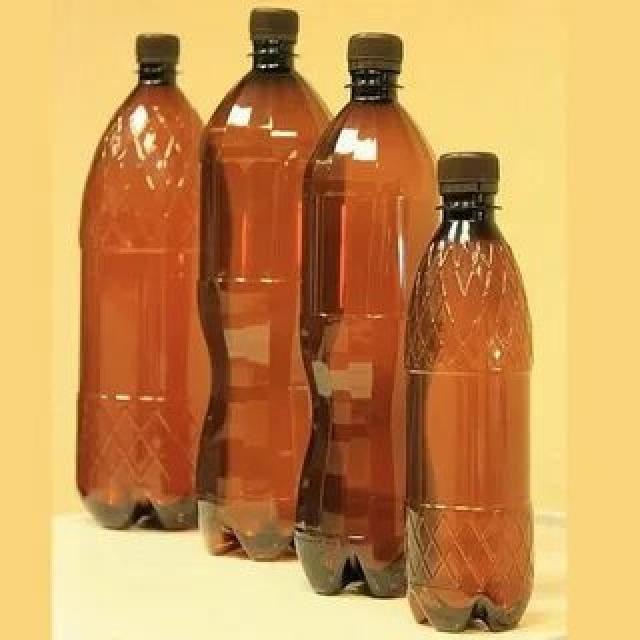brown: (300, 69, 417, 598), (78, 59, 204, 528), (412, 185, 530, 633), (202, 45, 302, 558)
